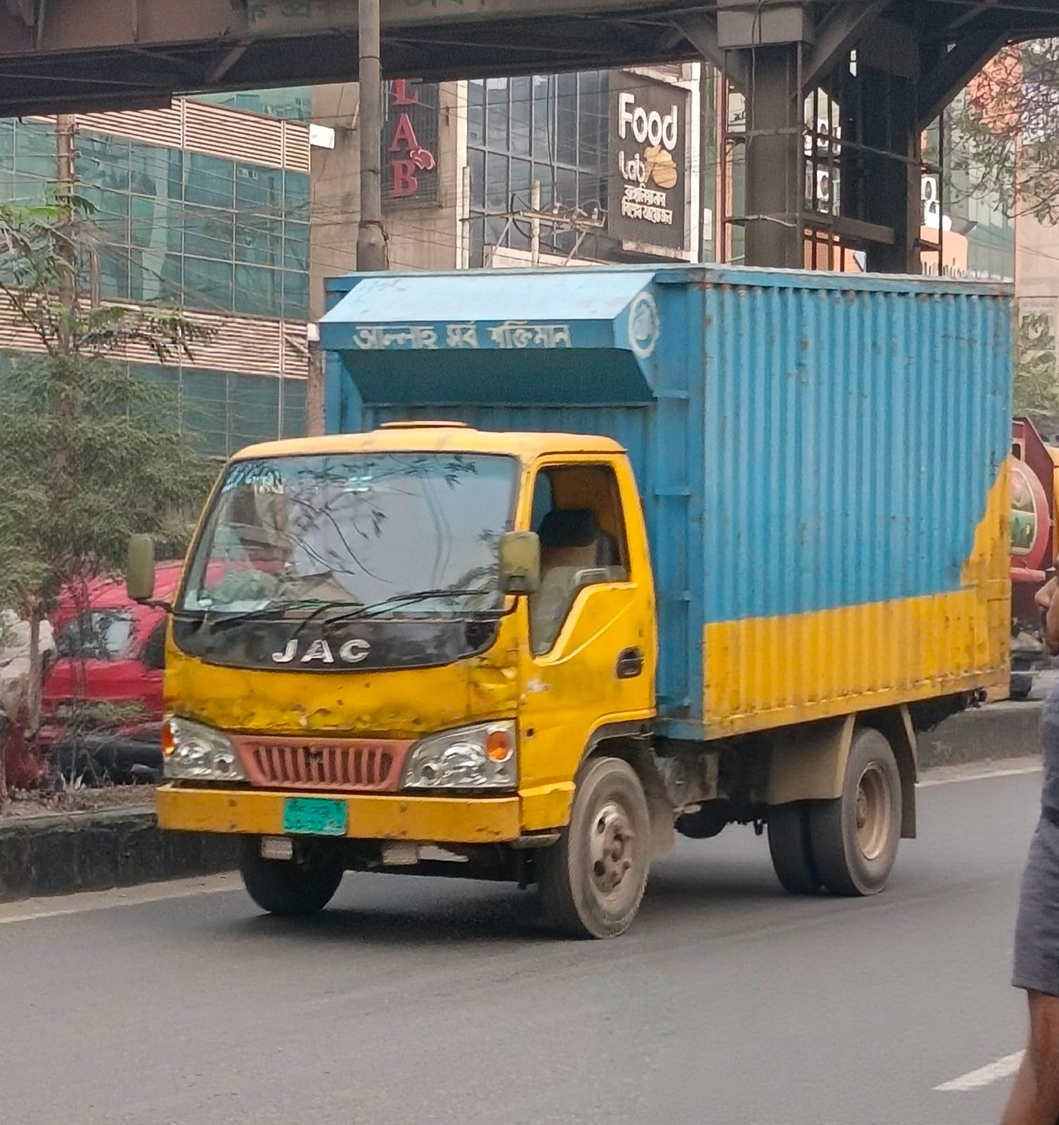Truck: (134, 240, 1023, 939)
